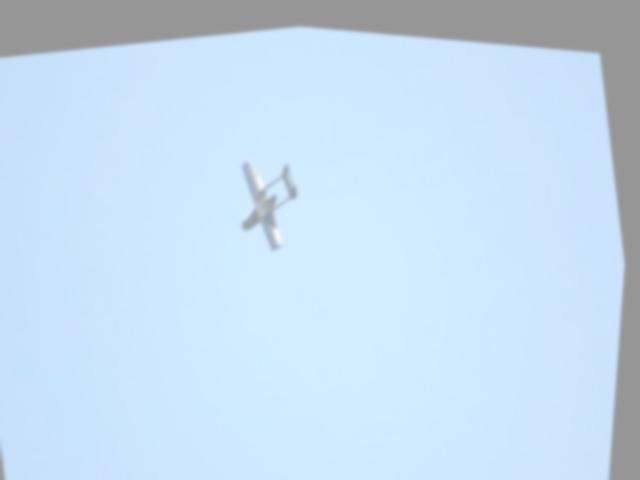uav: (229, 140, 318, 253)
